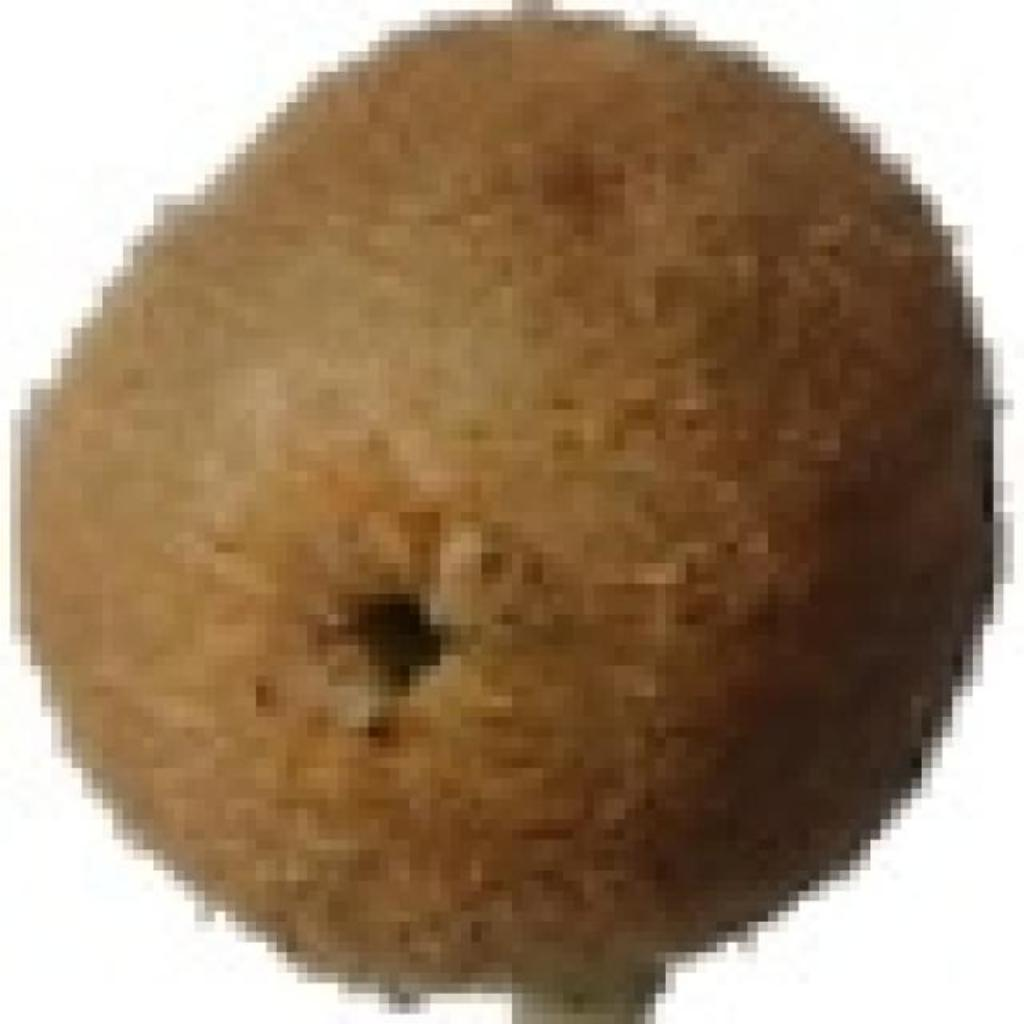kiwi: (27, 23, 990, 1017)
